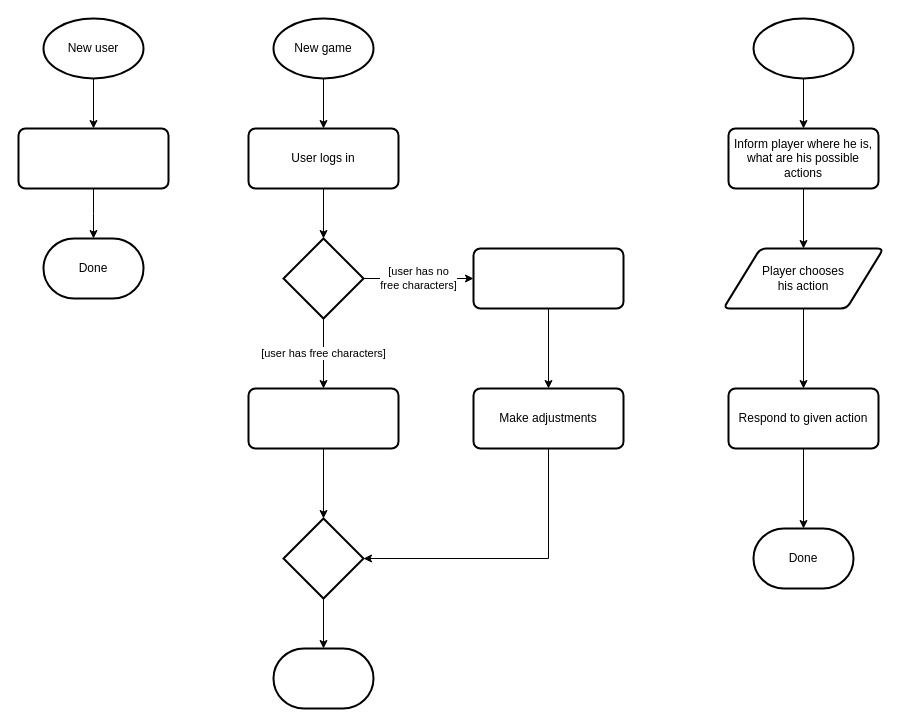
The diagram is 901 pixels wide and 726 high, and some of its shapes have lost their labels. Each missing label, with the centre of its shape:
Game itself: (803,48)
Generate new character: (548,278)
Select existing (free) character: (323,418)
Start playing the game: (323,678)
User registeres himself: (93,158)
